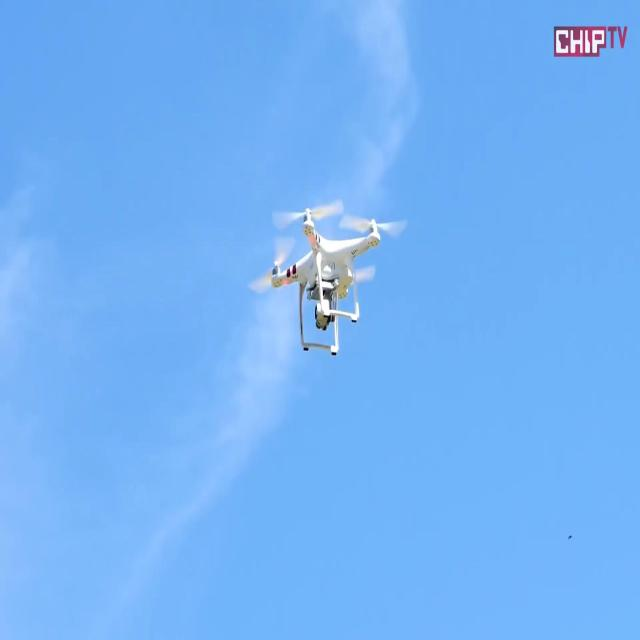drone: (267, 203, 389, 358)
